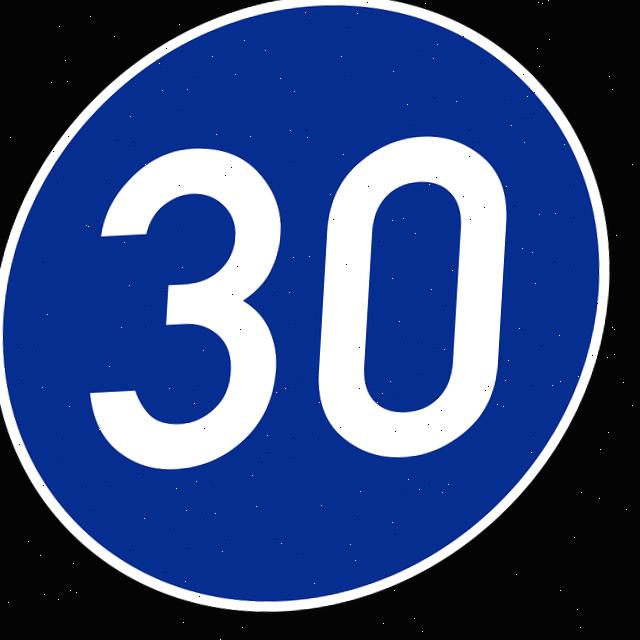Speed limit 30: (1, 1, 630, 630)
